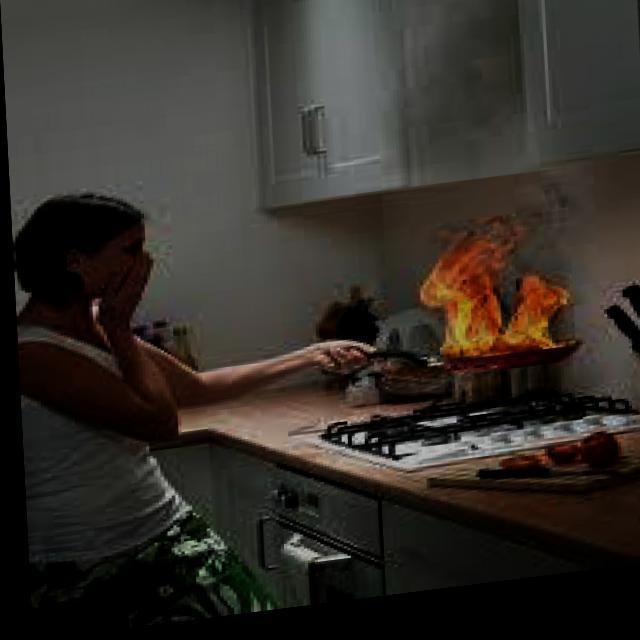Fire: (414, 227, 588, 390)
